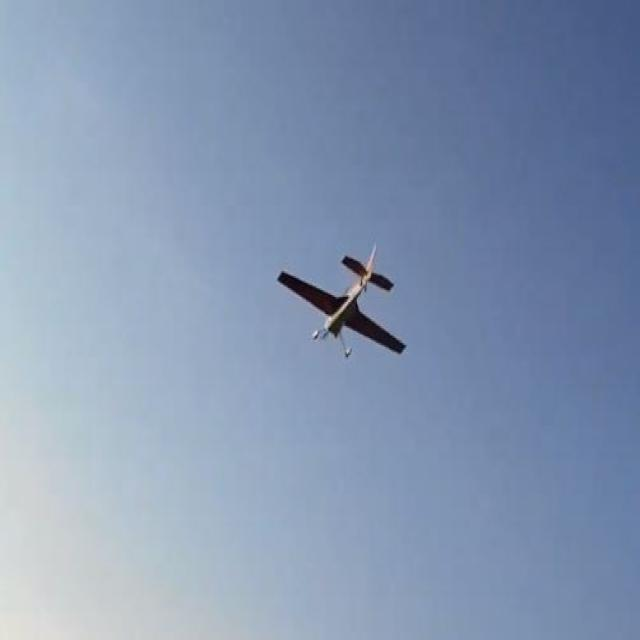iha: (276, 274, 408, 328)
